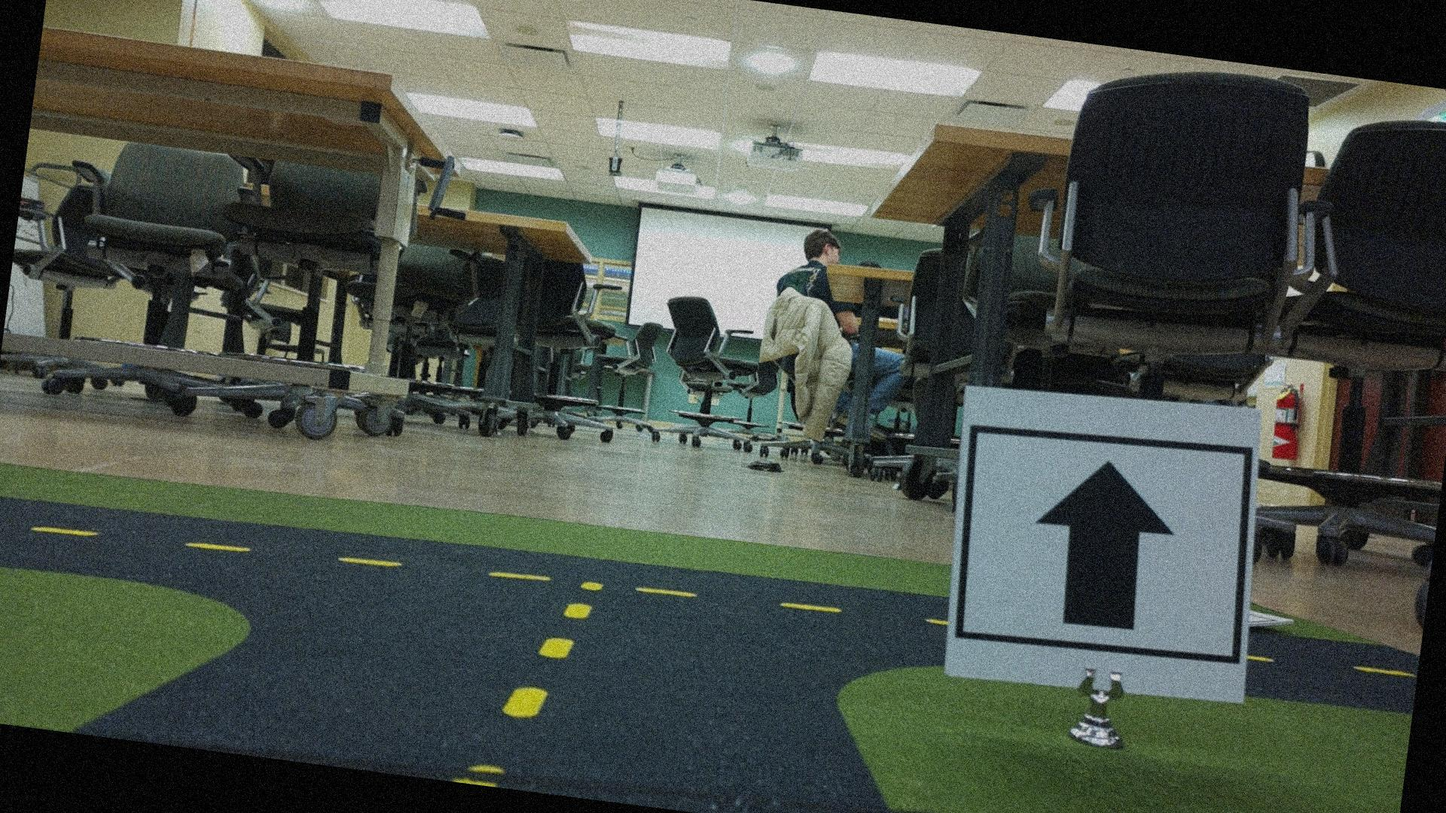gostraight: (944, 385, 1260, 698)
yellowline: (38, 501, 943, 646), (466, 568, 602, 797)
